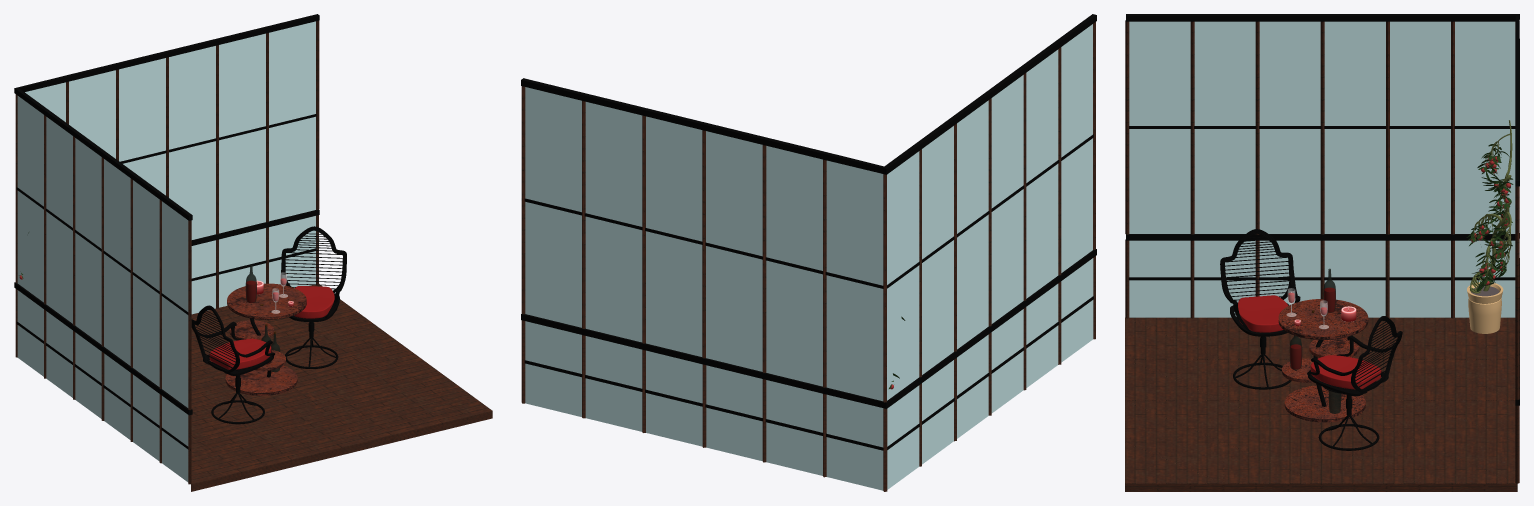
The model's file is main.gltf.
The picture shows the model from 3 angles, left to right: view 1: azimuth 30°, elevation 25°; view 2: azimuth 150°, elevation 25°; view 3: azimuth 270°, elevation 25°; orthographic projection. The views are drawn at different scales.
Parts seen in each view (by area): view 1: Railing002, PatioFloor, Railing001, Chair002 (×2), tabletop; view 2: Railing002, Railing001; view 3: Railing002, PatioFloor, Railing001, Chair002 (×2), tabletop, TomatoPlant, FlowerPot.
Part boxes in pixels (x1,y1,x2,y2): Railing002: [14, 14, 319, 410]; PatioFloor: [191, 284, 492, 491]; Railing001: [14, 210, 319, 484]; Chair002 (×2): [191, 226, 346, 424]; tabletop: [225, 283, 306, 395]; Railing002: [521, 14, 1096, 402]; Railing001: [521, 249, 1096, 491]; Railing002: [1125, 14, 1519, 399]; PatioFloor: [1125, 317, 1517, 491]; Railing001: [1125, 233, 1519, 483]; Chair002 (×2): [1220, 229, 1402, 450]; tabletop: [1278, 299, 1368, 422]; TomatoPlant: [1466, 120, 1513, 293]; FlowerPot: [1467, 282, 1503, 333].
Size of the model in its own units: 6.63 by 5.69 by 6.54.
Materials: 17 (6 with a texture image).
